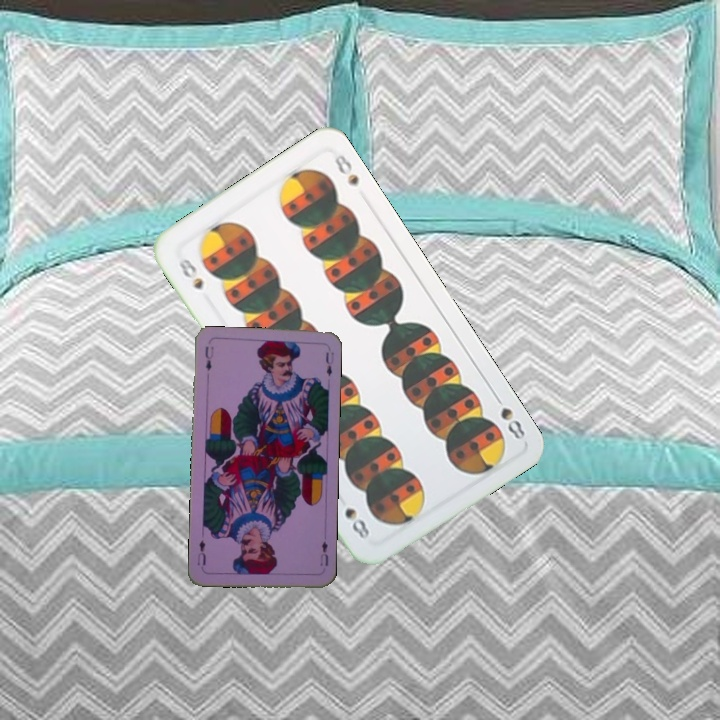EU: (316, 537, 331, 569), (201, 342, 216, 373)
S8: (489, 389, 528, 442), (174, 253, 206, 293)
